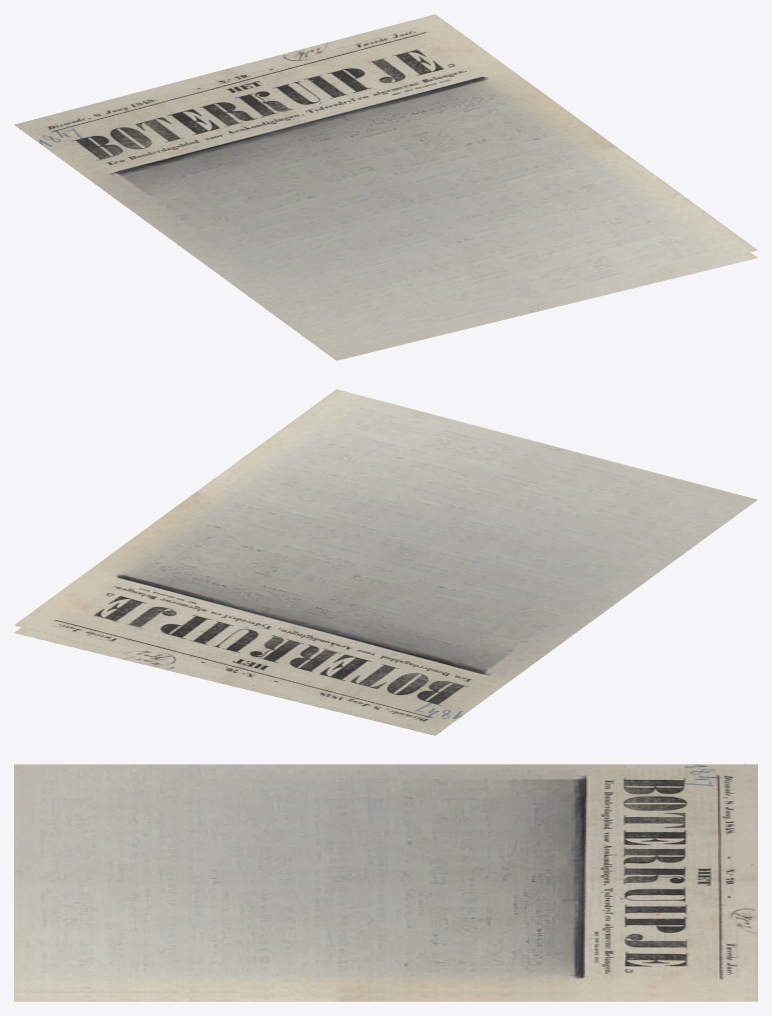
File: KRANT.fbx
3 views of the same model, one above another, from view 1: azimuth 30°, elevation 25°; view 2: azimuth 150°, elevation 25°; view 3: azimuth 270°, elevation 25° (orthographic). The views are drawn at different scales.
Parts seen in each view (by area): view 1: Plane, Plane.001; view 2: Plane, Plane.001; view 3: Plane, Plane.001.
Boxes of the visible parts, <box> form: Plane: <box>14,14,757,360</box>; Plane.001: <box>344,252,757,358</box>; Plane: <box>14,389,757,735</box>; Plane.001: <box>14,627,427,733</box>; Plane: <box>14,764,757,992</box>; Plane.001: <box>14,992,757,1001</box>.
Bounding box in the file's own units: 101 × 1.77 × 134.
